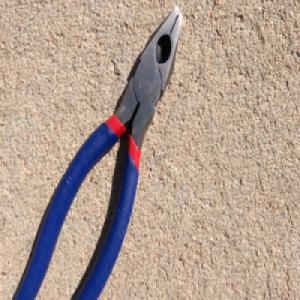Pliers: (11, 4, 183, 300)
